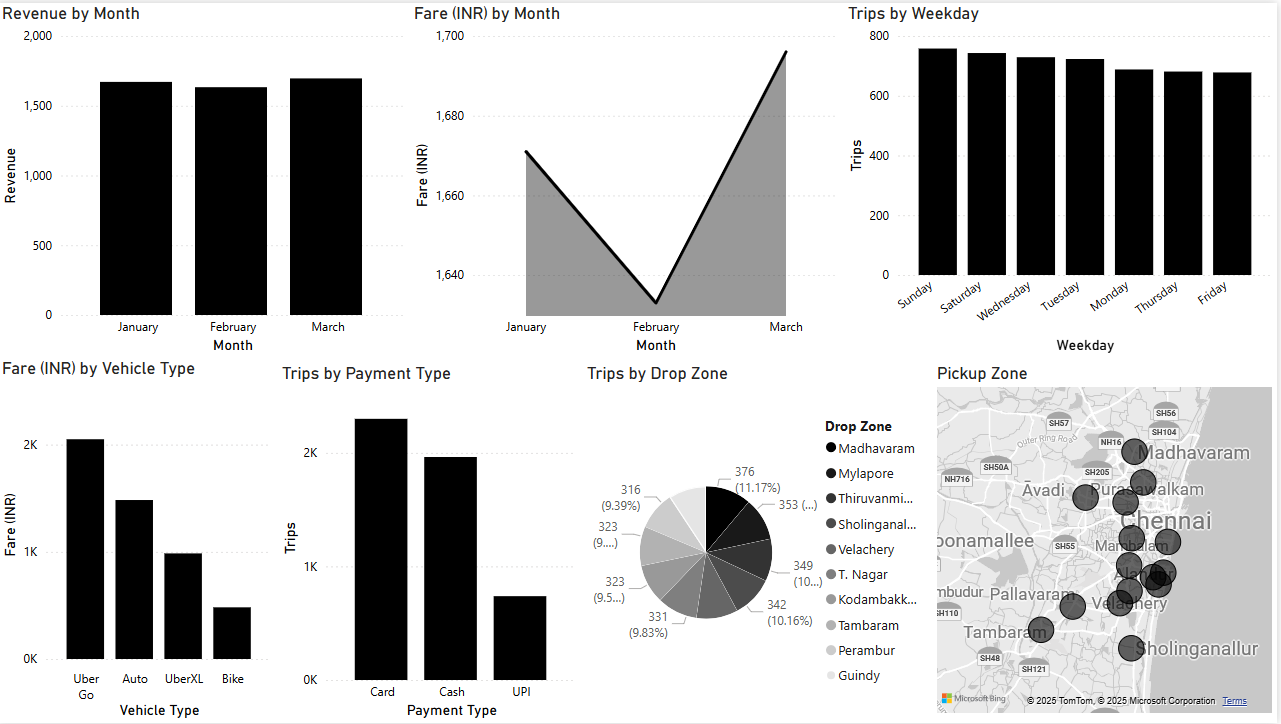

Layout of this report page (visuals, bound fields, positions):
{"tool":"powerbi","page":{"name":"Overview","canvas":[1280,720],"ordinal":1},"visuals":[{"type":"clusteredColumnChart","fields":{"Y":["CountNonNull(Uber Trips Data Cleaned._revenue)"],"Category":["Uber Trips Data Cleaned.Date.Variation.Date Hierarchy.Month"]},"box":[0,0,412.4,355],"z":0},{"type":"clusteredColumnChart","fields":{"Category":["Uber Trips Data Cleaned.Vehicle Type"],"Y":["CountNonNull(Uber Trips Data Cleaned.Fare (INR))"]},"box":[0,355,280.1,364.7],"z":1000},{"type":"clusteredColumnChart","fields":{"Category":["Uber Trips Data Cleaned.Payment Type"],"Y":["CountNonNull(Uber Trips Data Cleaned.Trip ID)"]},"box":[280.1,359.9,304.4,359.9],"z":2000},{"type":"pieChart","fields":{"Category":["Uber Trips Data Cleaned.Drop Zone"],"Y":["Sum(Uber Trips Data Cleaned.trip_count)"]},"box":[584.6,359.9,350.2,359.9],"z":3000},{"type":"map","fields":{"Category":["Uber Trips Data Cleaned.Pickup Zone"]},"box":[934.7,359.9,345.3,355],"z":4000},{"type":"stackedAreaChart","fields":{"Y":["CountNonNull(Uber Trips Data Cleaned.Fare (INR))"],"Category":["Uber Trips Data Cleaned.Date.Variation.Date Hierarchy.Month"]},"box":[412.4,0,433.8,355],"z":5000},{"type":"lineStackedColumnComboChart","fields":{"Y":["Sum(Uber Trips Data Cleaned.trip_count)"],"Category":["Uber Trips Data Cleaned.Weekday"]},"box":[846.2,0,433.8,355],"z":5001}]}

Visuals, with their boxes in screenshot pixels (x1, y1, x2, y2), scaled from the page's 1280x720 canvas onto the 1281x724 screenshot:
clusteredColumnChart - CountNonNull(Uber Trips Data Cleaned._revenue) x Uber Trips Data Cleaned.Date.Variation.Date Hierarchy.Month: [x1=0, y1=0, x2=413, y2=357]
clusteredColumnChart - Uber Trips Data Cleaned.Vehicle Type x CountNonNull(Uber Trips Data Cleaned.Fare (INR)): [x1=0, y1=357, x2=280, y2=723]
clusteredColumnChart - Uber Trips Data Cleaned.Payment Type x CountNonNull(Uber Trips Data Cleaned.Trip ID): [x1=280, y1=362, x2=585, y2=723]
pieChart - Uber Trips Data Cleaned.Drop Zone x Sum(Uber Trips Data Cleaned.trip_count): [x1=585, y1=362, x2=936, y2=723]
map - Uber Trips Data Cleaned.Pickup Zone: [x1=935, y1=362, x2=1280, y2=719]
stackedAreaChart - CountNonNull(Uber Trips Data Cleaned.Fare (INR)) x Uber Trips Data Cleaned.Date.Variation.Date Hierarchy.Month: [x1=413, y1=0, x2=847, y2=357]
lineStackedColumnComboChart - Sum(Uber Trips Data Cleaned.trip_count) x Uber Trips Data Cleaned.Weekday: [x1=847, y1=0, x2=1280, y2=357]
